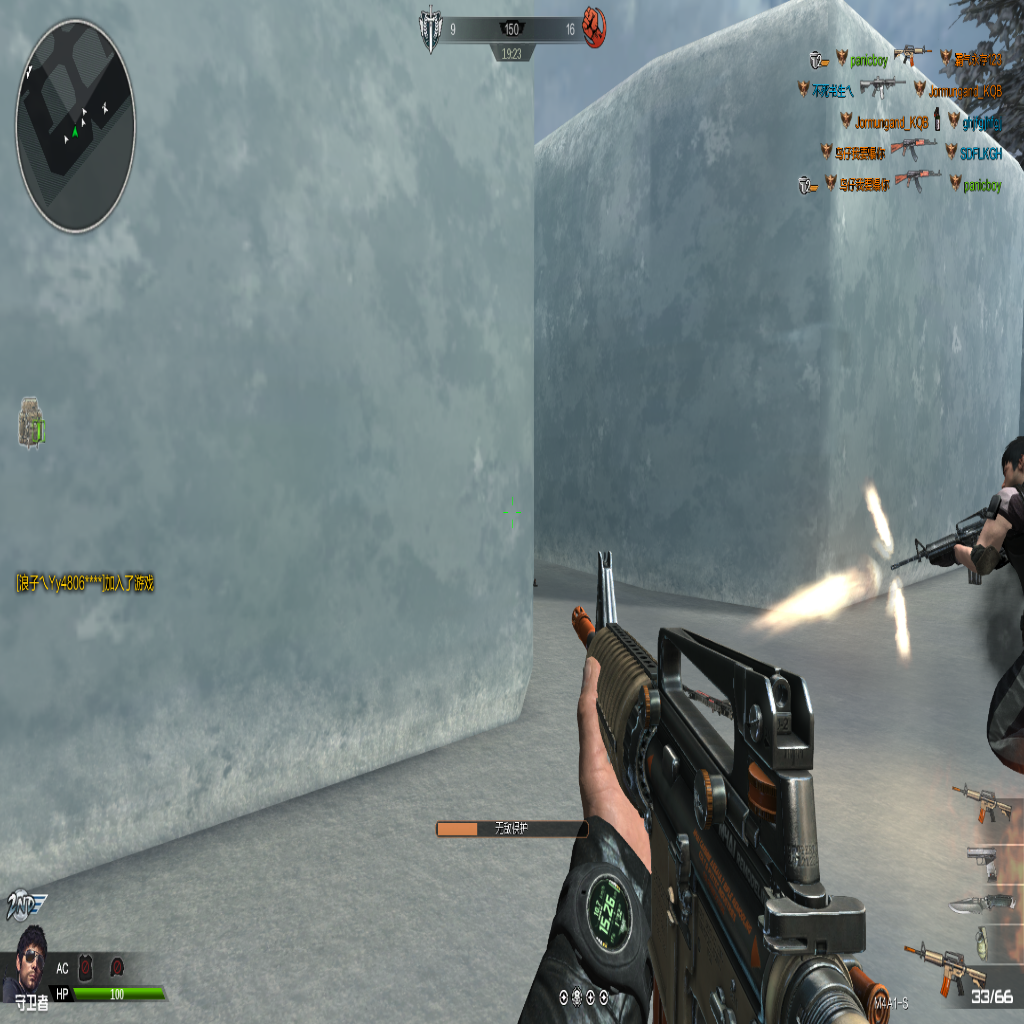ct: (934, 432, 1020, 814)
